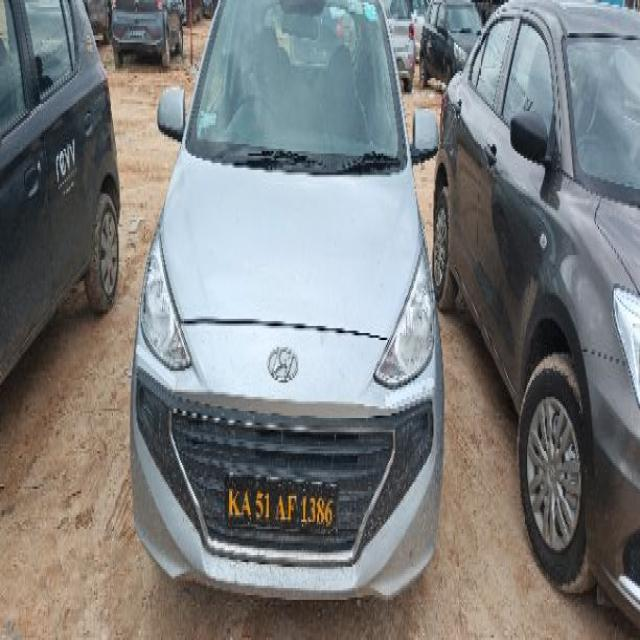license_plate: (224, 470, 339, 534)
